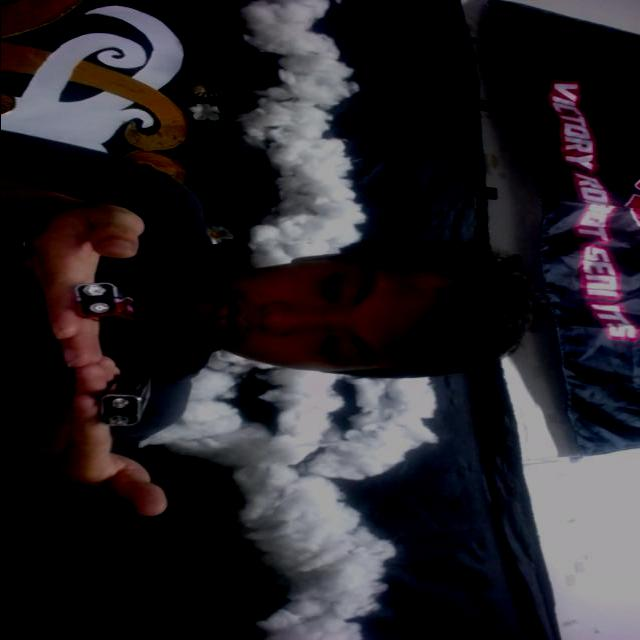9V: (84, 364, 160, 434), (65, 279, 163, 328)
